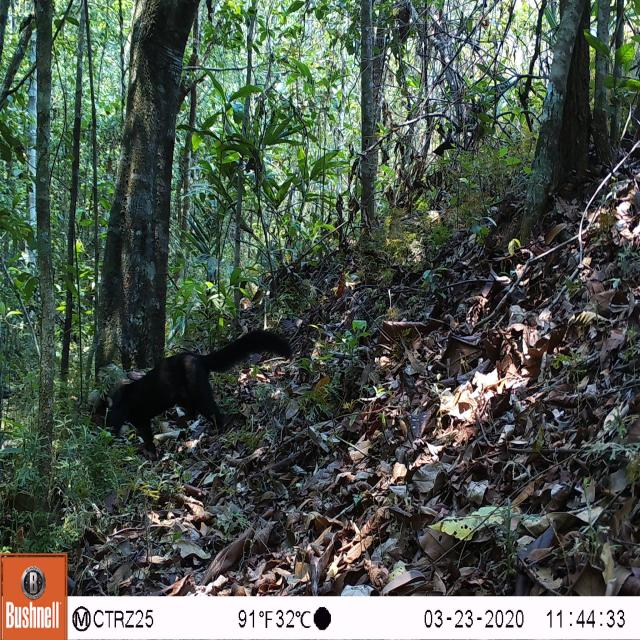Tayra: (99, 329, 292, 450)
